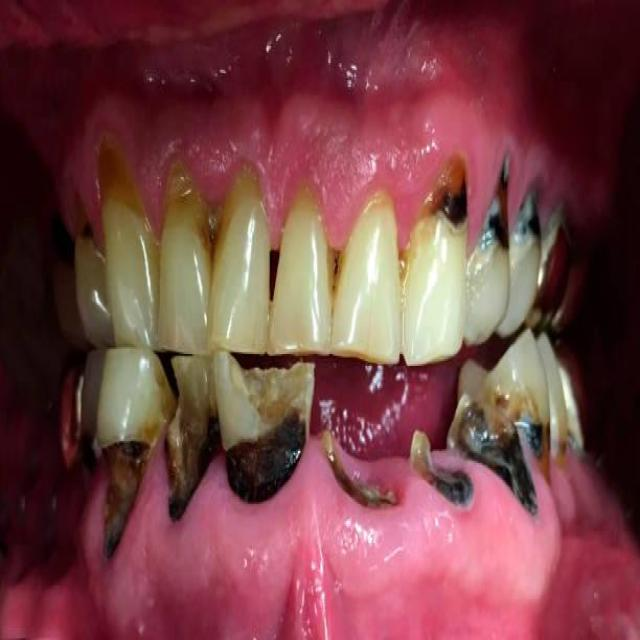caries: (219, 350, 318, 516), (159, 353, 222, 534), (458, 366, 532, 506), (91, 407, 152, 561), (320, 436, 402, 527), (402, 421, 471, 520), (408, 150, 472, 254), (96, 132, 156, 226), (158, 159, 214, 253), (475, 142, 514, 263), (520, 394, 566, 481), (215, 157, 263, 240), (513, 170, 545, 264), (65, 179, 100, 250)
